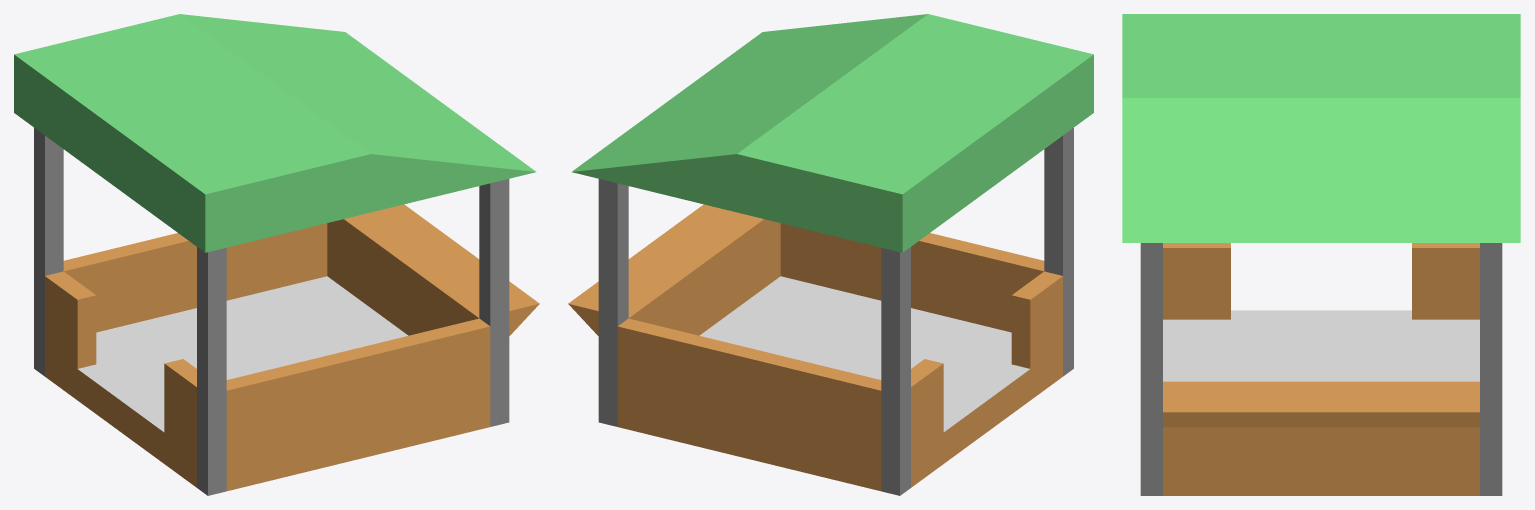
The model's file is shop.fbx.
3 views of the same model, side by side, from view 1: azimuth 30°, elevation 25°; view 2: azimuth 150°, elevation 25°; view 3: azimuth 270°, elevation 25° (orthographic). The views are drawn at different scales.
Visible parts, largest first — view 1: Cube; view 2: Cube; view 3: Cube.
Part boxes in pixels (x1,y1,x2,y2): Cube: [14, 14, 539, 495]; Cube: [568, 14, 1093, 495]; Cube: [1122, 14, 1520, 495].
Bounding box in the file's own units: 235 × 197 × 220.
